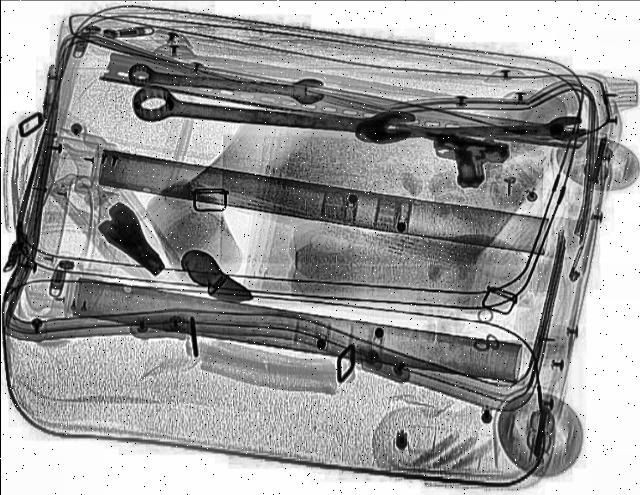Gun: (380, 127, 512, 191)
Wrench: (131, 83, 419, 147), (125, 62, 328, 106), (356, 117, 586, 145)
